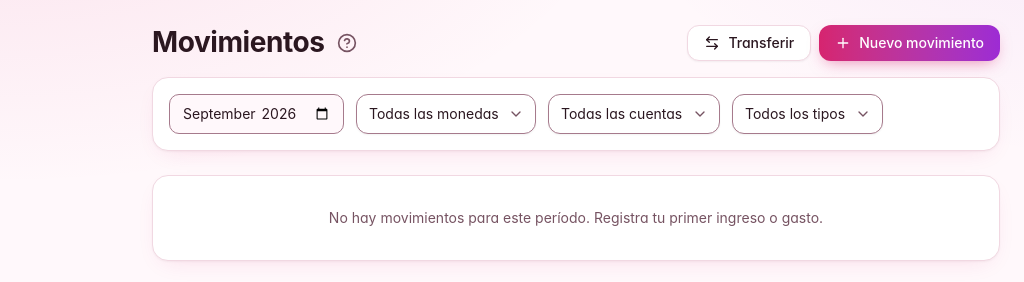
it: Transactions — ayuda de la pantalla (M18) › el «?» junto al título explica la pantalla
Click the button named "Ayuda: Movimientos".
click(347, 43)  # box [329, 25, 365, 61]
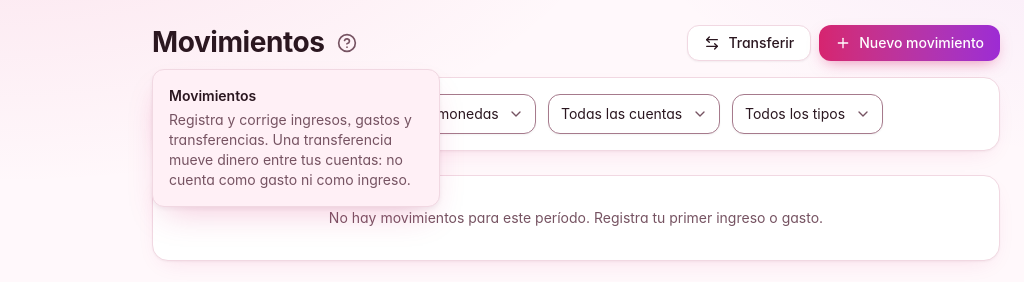
Now the element "Movimientos" shows "Registra y corrige ingresos, gastos y transferencias. Una transferencia mueve dinero entre tus cuentas: no cuenta como gasto ni como ingreso.", box [169, 111, 412, 188]
